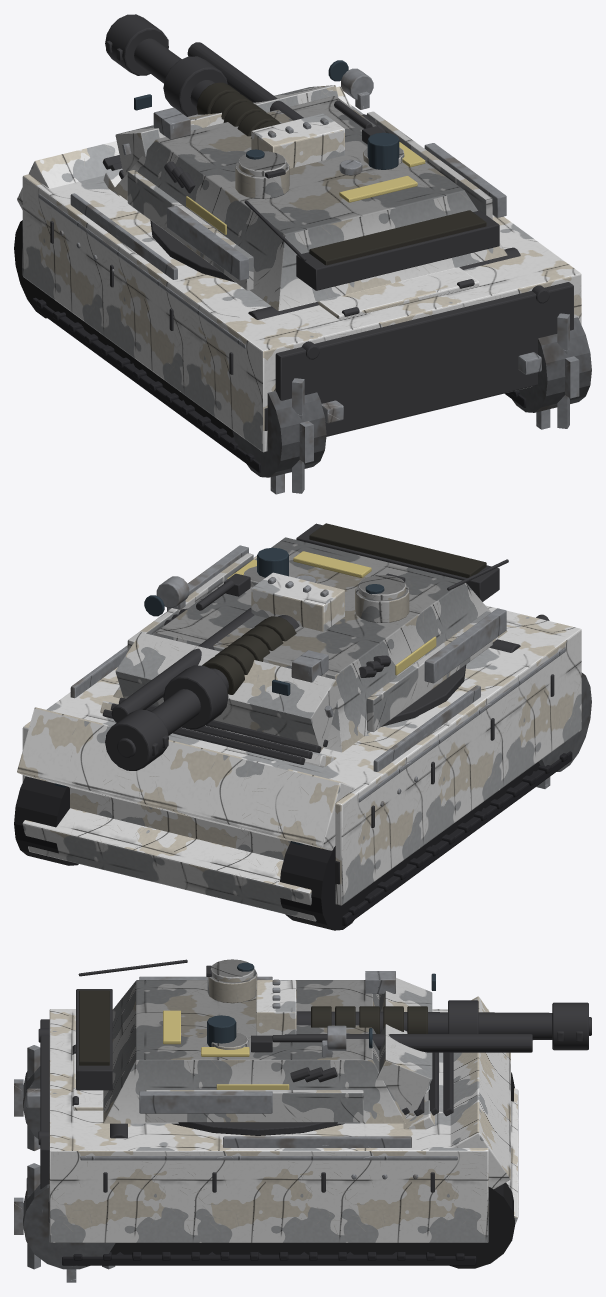
Rendered from tank_boss.glb.
The picture shows the model from 3 angles, top to bottom: view 1: azimuth 30°, elevation 25°; view 2: azimuth 150°, elevation 25°; view 3: azimuth 270°, elevation 25°; orthographic projection. The views are drawn at different scales.
Parts seen in each view (by area): view 1: HullMesh, TurretMesh, BarrelMesh, Wheel_L_sprocket, Wheel_R_sprocket, Wheel_L_idler; view 2: HullMesh, TurretMesh, BarrelMesh, Wheel_L_idler, Wheel_R_idler, Wheel_L_sprocket; view 3: HullMesh, TurretMesh, BarrelMesh, Wheel_R_sprocket, Wheel_R_idler, Wheel_L_sprocket, Wheel_R1, Wheel_R3, Wheel_R5, Wheel_R6, Wheel_R4, Wheel_R2.
Boxes of the visible parts, box(x1,y1,x2,y2) form: HullMesh: box(17, 86, 581, 472); TurretMesh: box(113, 60, 507, 310); BarrelMesh: box(105, 14, 344, 168); Wheel_L_sprocket: box(232, 378, 326, 494); Wheel_R_sprocket: box(512, 313, 591, 429); Wheel_L_idler: box(14, 220, 65, 318); HullMesh: box(17, 556, 581, 925); TurretMesh: box(113, 523, 508, 752); BarrelMesh: box(105, 572, 344, 770); Wheel_L_idler: box(280, 841, 370, 930); Wheel_R_idler: box(14, 776, 78, 865); Wheel_L_sprocket: box(536, 672, 591, 788); HullMesh: box(26, 996, 518, 1265); TurretMesh: box(76, 959, 435, 1135); BarrelMesh: box(256, 979, 591, 1052); Wheel_R_sprocket: box(14, 1163, 115, 1282); Wheel_R_idler: box(423, 1182, 514, 1268); Wheel_L_sprocket: box(14, 1045, 40, 1150); Wheel_R1: box(342, 1243, 395, 1254); Wheel_R3: box(250, 1243, 311, 1254); Wheel_R5: box(158, 1243, 218, 1254); Wheel_R6: box(114, 1243, 165, 1254); Wheel_R4: box(204, 1243, 257, 1254); Wheel_R2: box(296, 1243, 350, 1254).
Bounding box in the file's own units: 4.66 × 3.55 × 7.9.
Materials: 11 (2 with a texture image).
